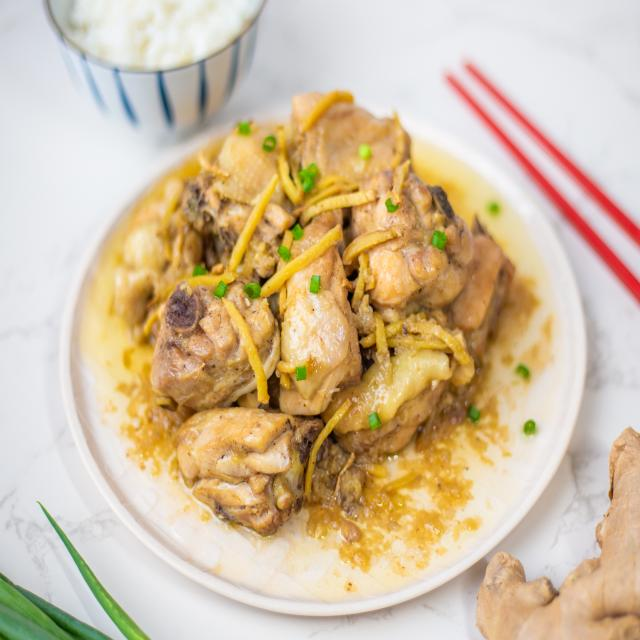ga kho: (114, 91, 514, 534)
